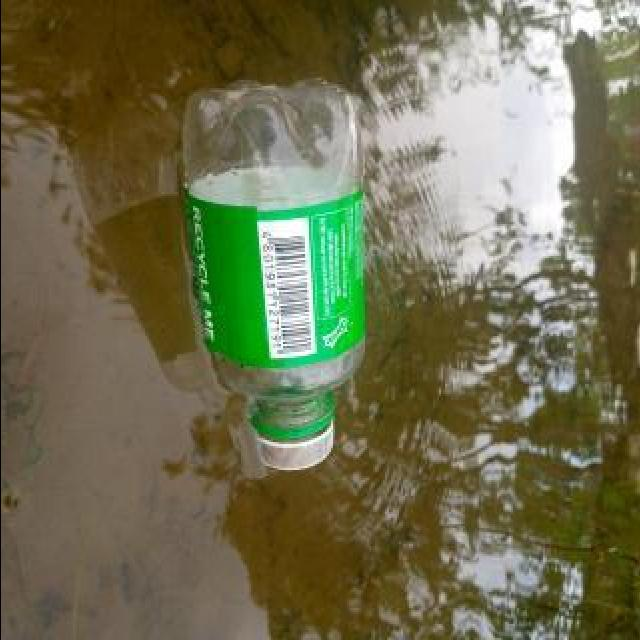Bottle: (173, 70, 375, 484)
